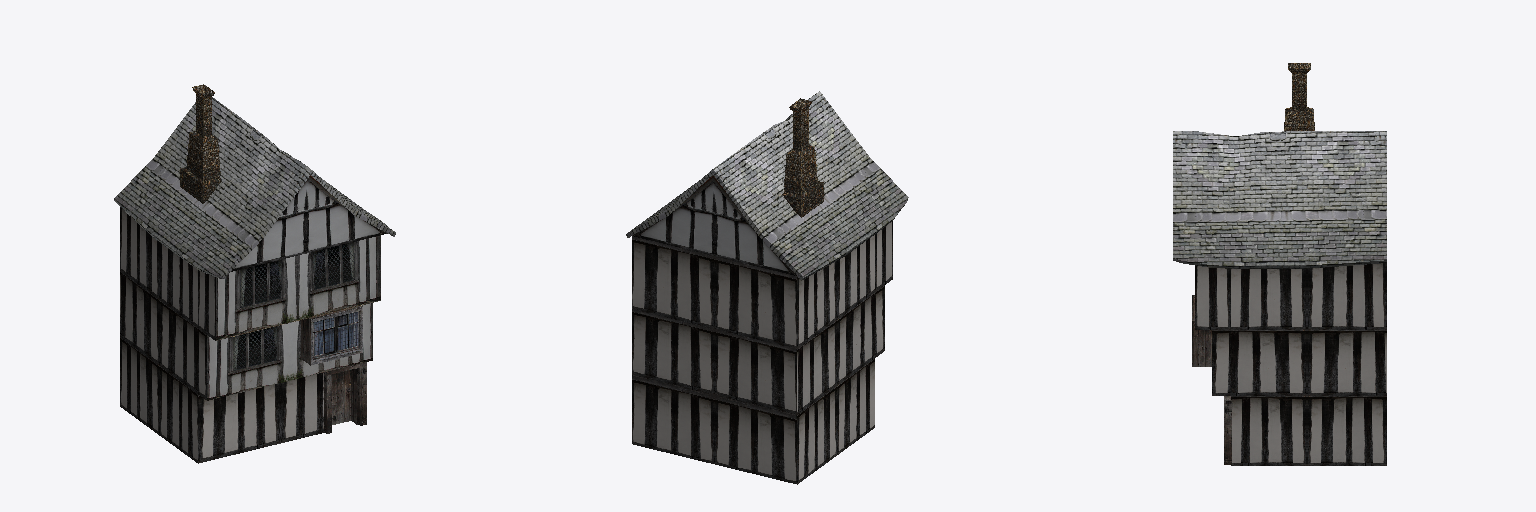
3 views of the same model, side by side, from view 1: azimuth 30°, elevation 25°; view 2: azimuth 150°, elevation 25°; view 3: azimuth 270°, elevation 25° (orthographic).
Visible parts, largest first — view 1: med_house_2; view 2: med_house_2; view 3: med_house_2.
Part boxes in pixels (bbox=[...]): med_house_2: bbox=[114, 84, 395, 463]; med_house_2: bbox=[626, 91, 908, 484]; med_house_2: bbox=[1173, 63, 1386, 465].
Size of the model in its own units: 290 by 505 by 288.
1 materials, 1 textured.